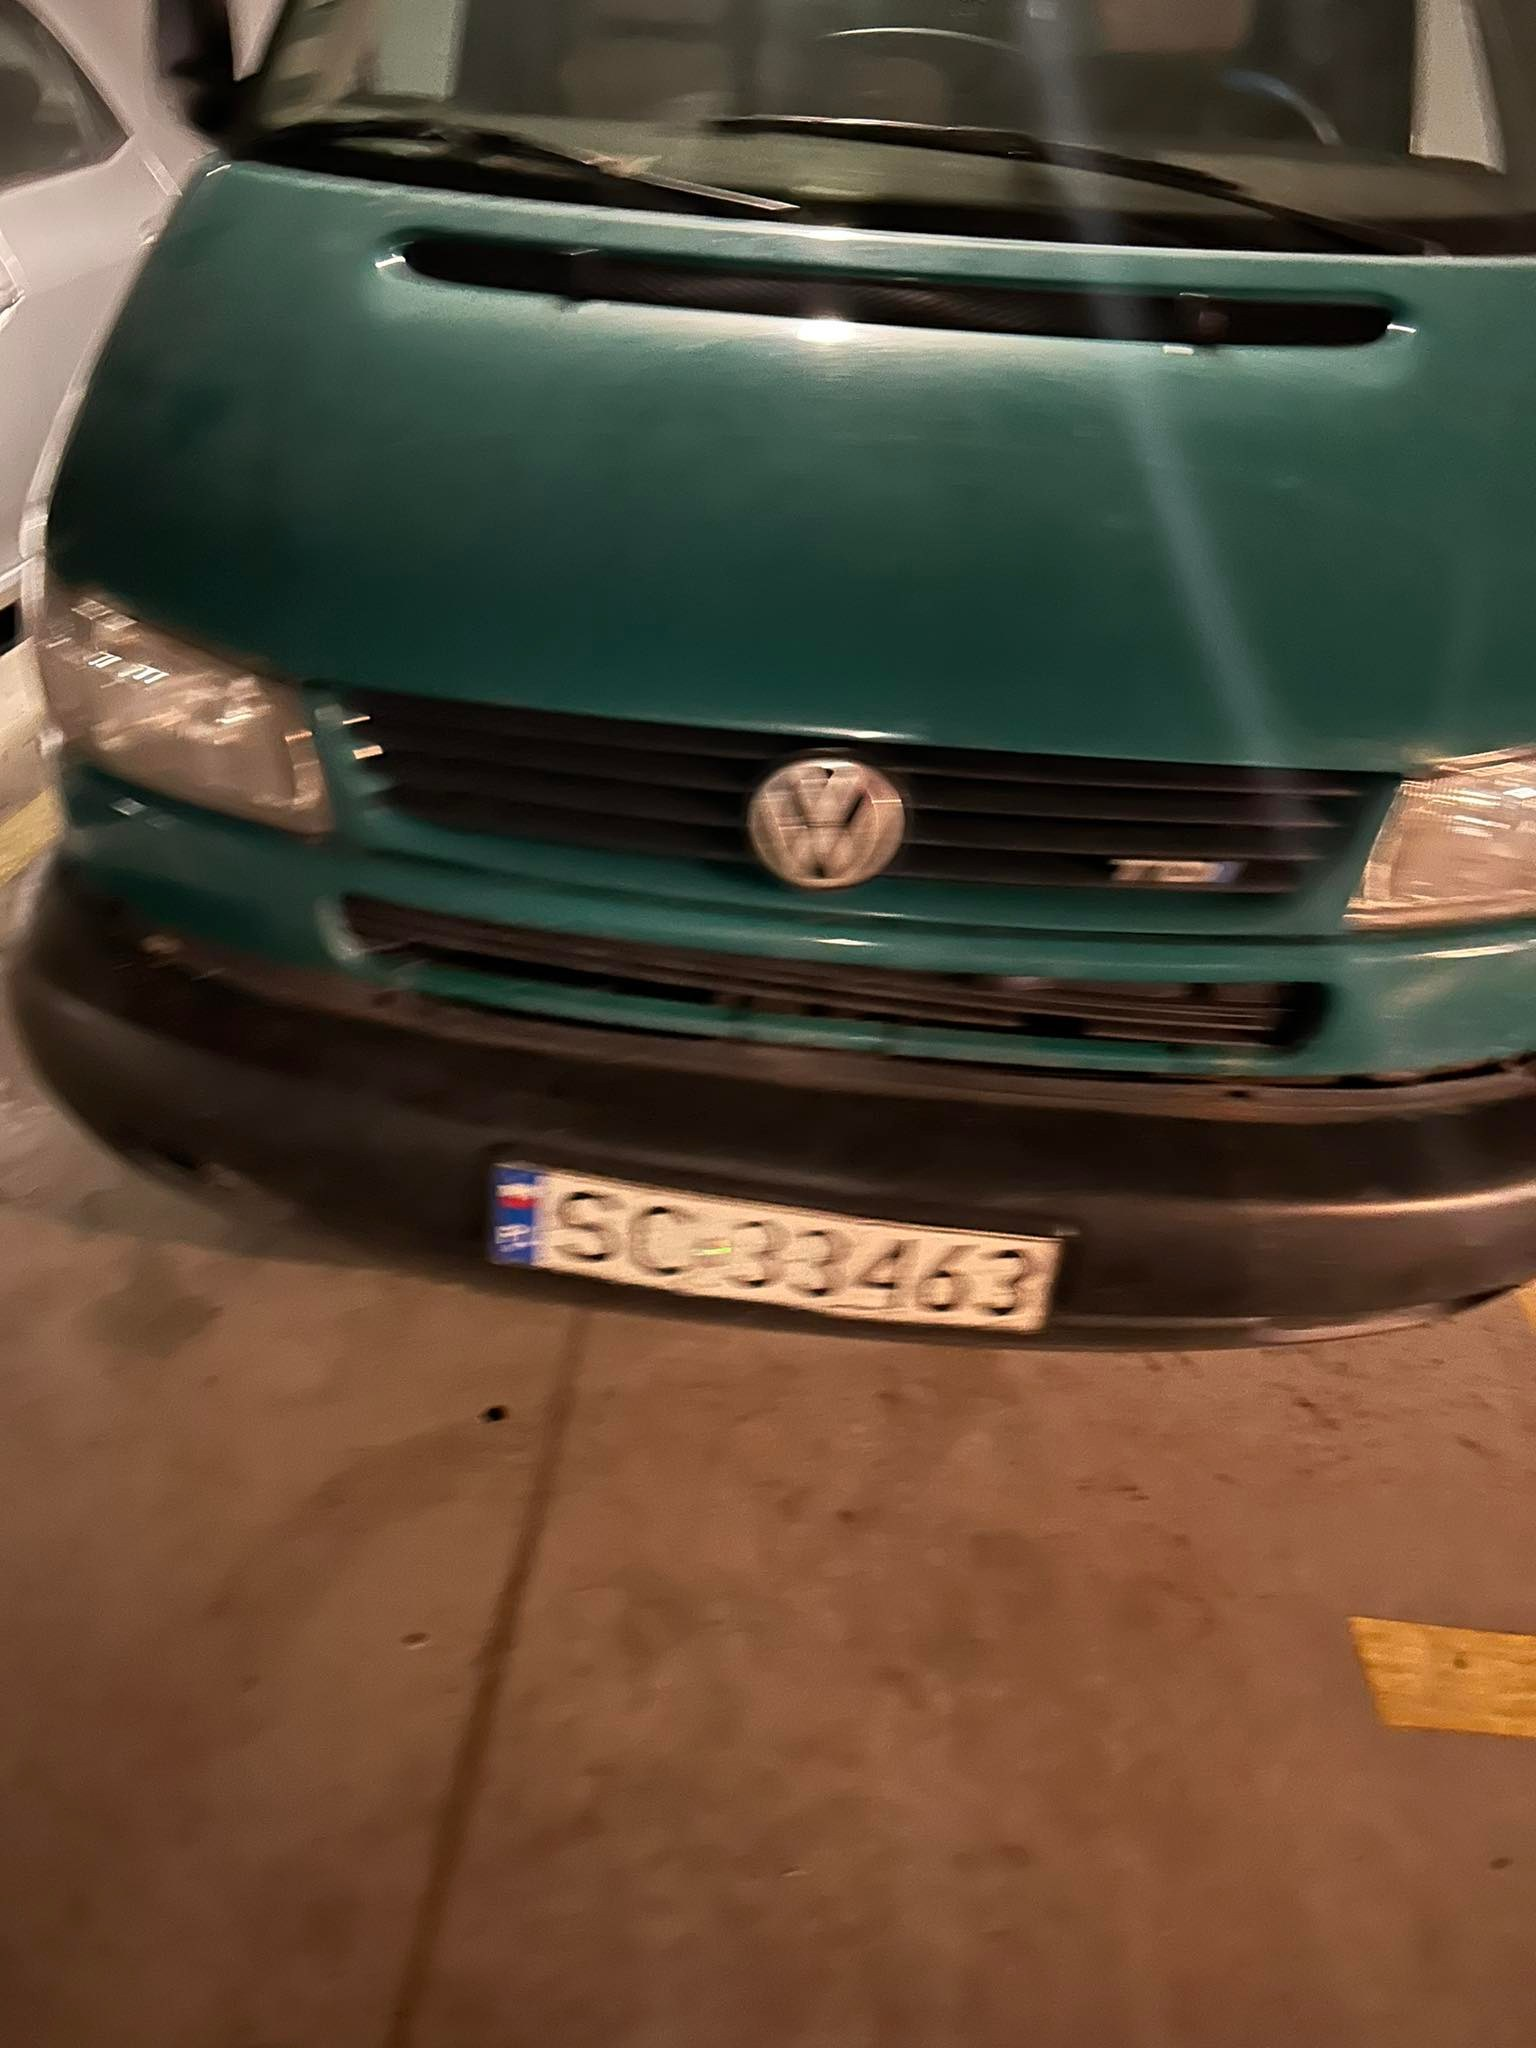number_plate: (483, 1145, 1061, 1345)
